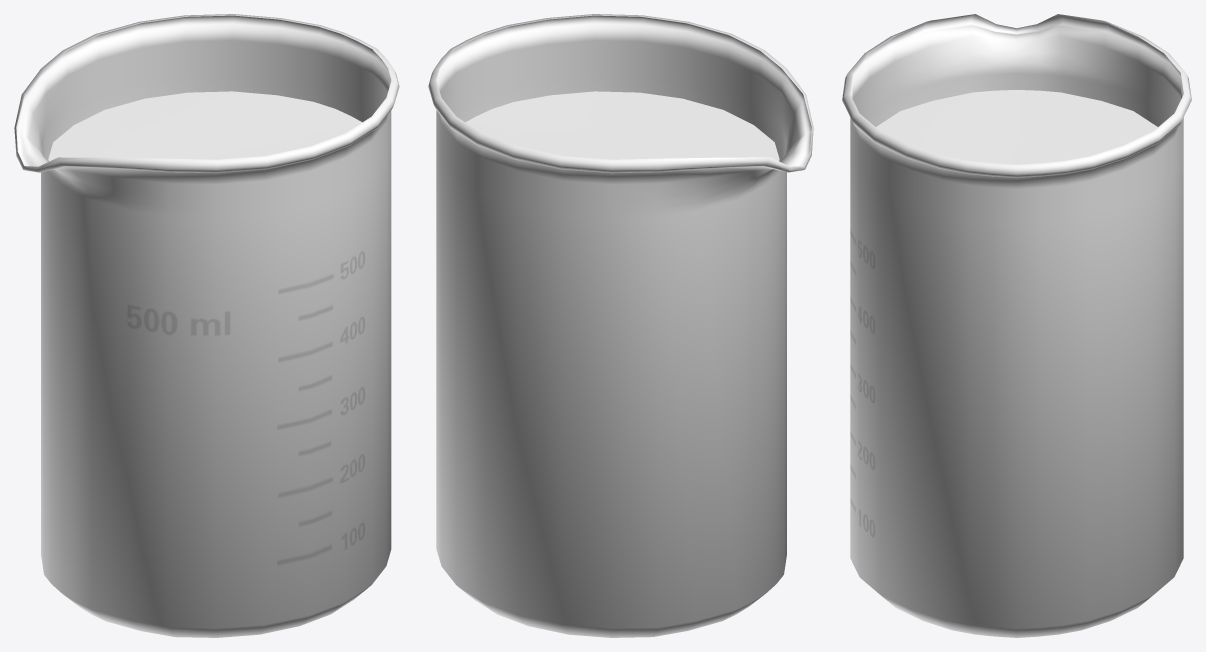
Rendered from 脱脂牛奶.glb.
3 renders of one model, left to right at view 1: azimuth 30°, elevation 25°; view 2: azimuth 150°, elevation 25°; view 3: azimuth 270°, elevation 25°, orthographic.
Visible parts, largest first — view 1: 烧杯.001, 烧杯液体; view 2: 烧杯.001, 烧杯液体; view 3: 烧杯.001, 烧杯液体.
Part boxes in pixels (x1,y1,x2,y2): 烧杯.001: [14, 14, 399, 637]; 烧杯液体: [48, 91, 361, 161]; 烧杯.001: [428, 14, 813, 637]; 烧杯液体: [465, 91, 779, 161]; 烧杯.001: [842, 14, 1191, 637]; 烧杯液体: [876, 90, 1157, 164].
Size of the model in its own units: 0.1475 by 0.1925 by 0.1267.
2 materials, 2 textured.
